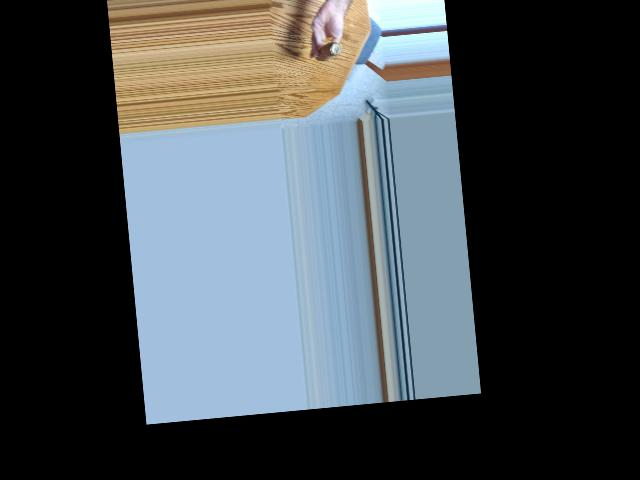sweet_potato: (312, 36, 346, 62)
